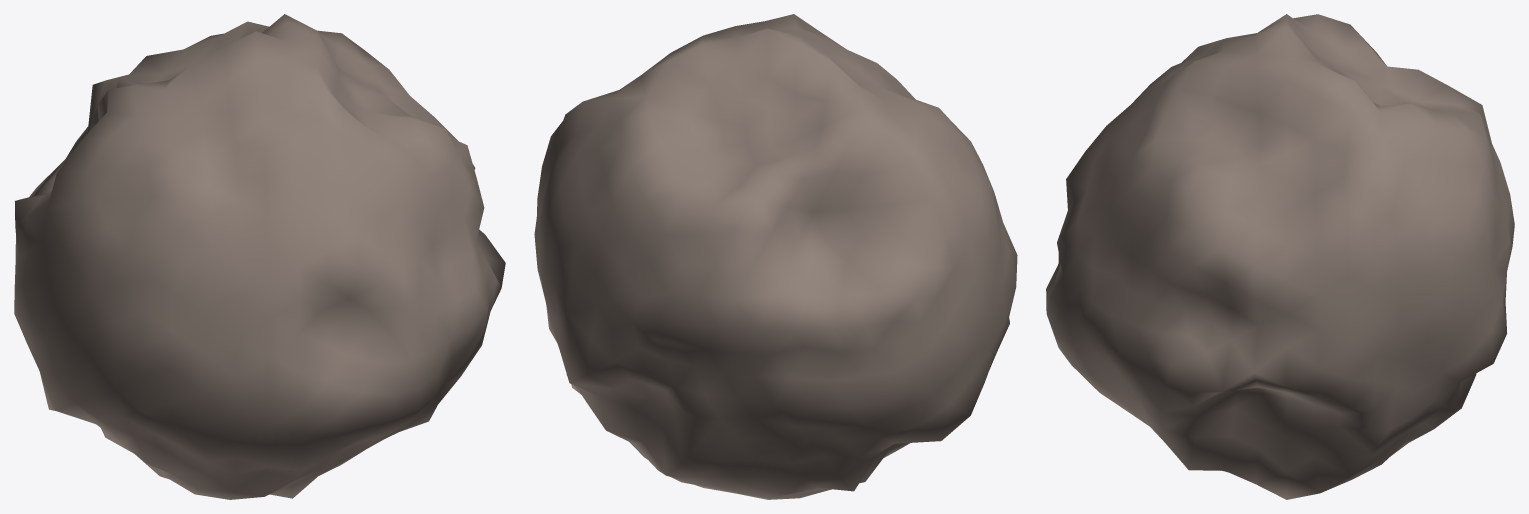
File: Caliban.fbx
3 views of the same model, side by side, from view 1: azimuth 30°, elevation 25°; view 2: azimuth 150°, elevation 25°; view 3: azimuth 270°, elevation 25° (orthographic). The views are drawn at different scales.
Parts seen in each view (by area): view 1: CalibanSurface; view 2: CalibanSurface; view 3: CalibanSurface.
Boxes of the visible parts, x1,y1,x2,y2 form: CalibanSurface: [14, 14, 505, 499]; CalibanSurface: [534, 14, 1017, 499]; CalibanSurface: [1046, 14, 1514, 499].
Bounding box in the file's own units: 2.15 × 2.15 × 2.06.
